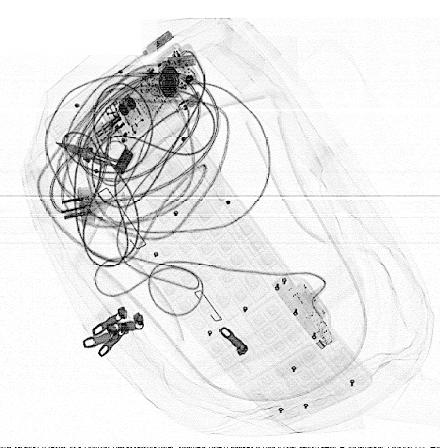Scissors: (54, 137, 131, 188)
